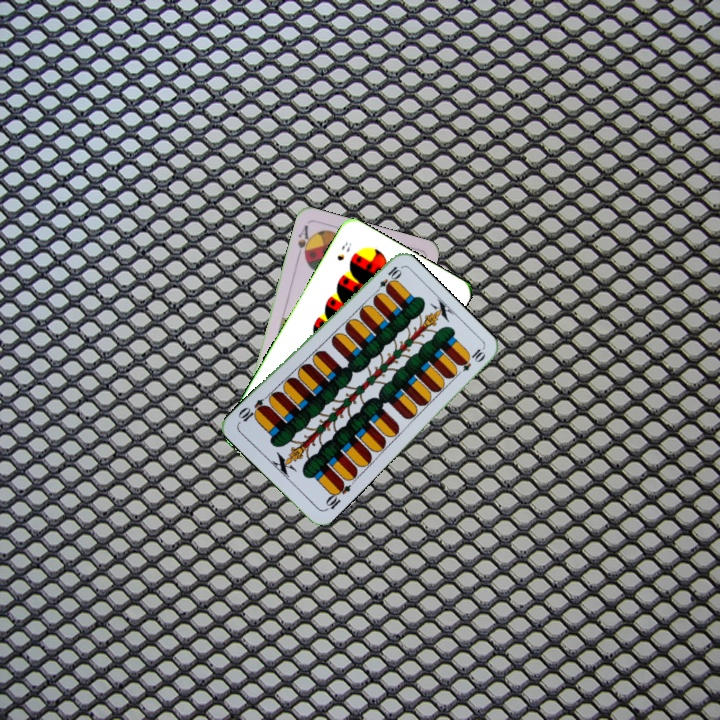E10: (370, 262, 403, 297), (321, 477, 353, 513)
S8: (333, 238, 354, 263)
SA: (293, 221, 315, 262)
